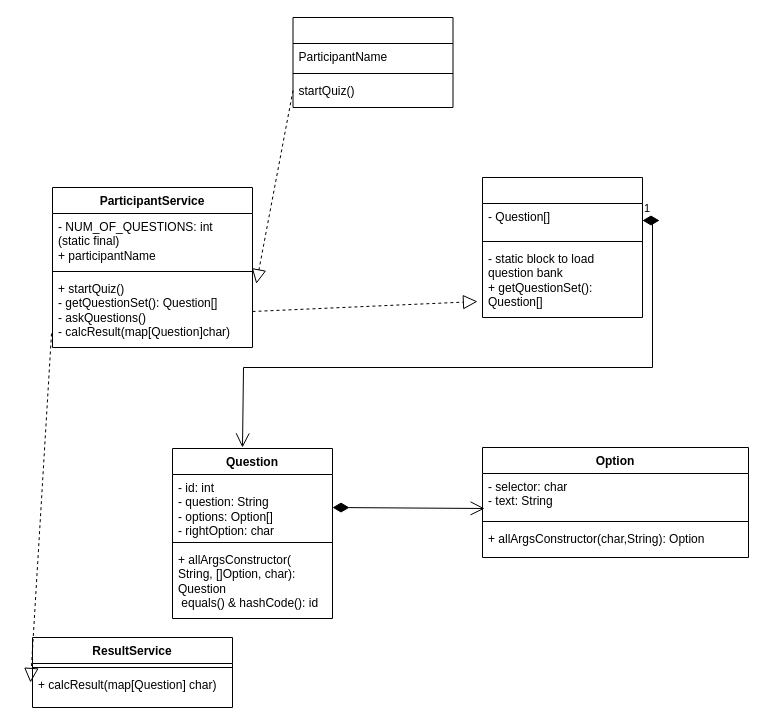
Image size: 766x728. Some labels were removed from this diagram. Each missing label, with the box of its shape:
QuizMaster: (292, 16, 453, 108)
QuizService: (482, 176, 642, 318)
